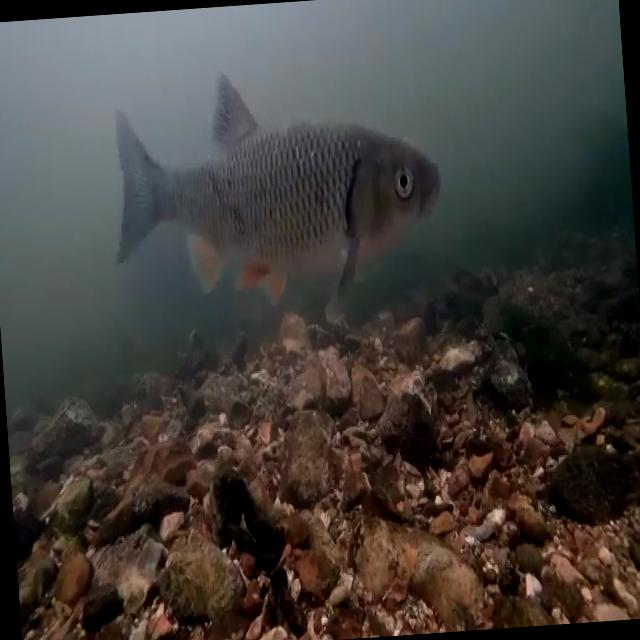Cakil Baligi: (95, 48, 448, 322)
